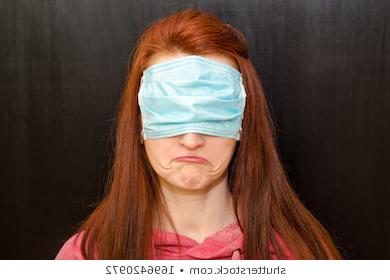mask_weared_incorrect: (141, 63, 241, 186)
